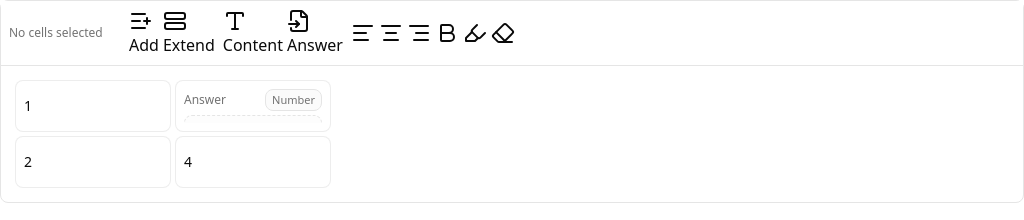
Test: TableCanvas › drag-selects through pointer capture with headers disabled
Step 1. Press the mouse on the button "1" → x=93, y=106, box [15, 80, 171, 132]
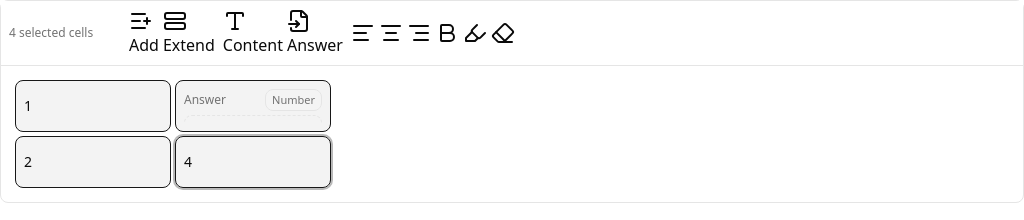
Result: the text "4 selected cells" is shown at [9, 24, 93, 41]
